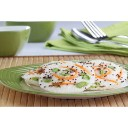idly: (41, 61, 95, 91), (84, 60, 127, 87)
